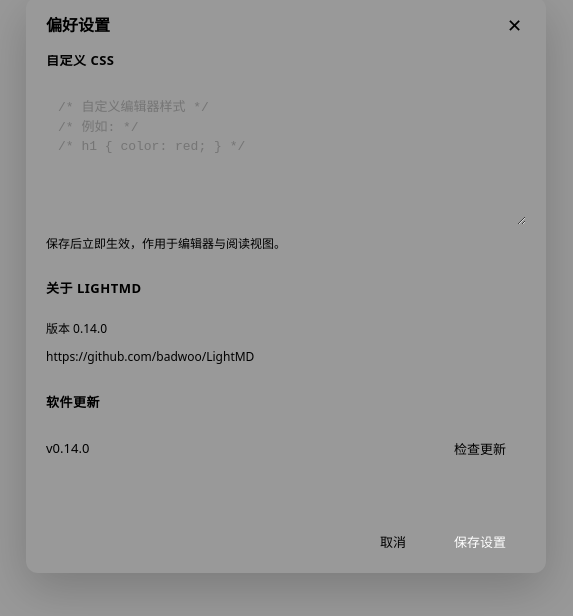
Test: v0.14.0 需求1：设置里「软件更新」区 › 点「检查更新」→ 已是最新版本 → 显示版本号文案
(page scrolled)
Step 1. Click the button with test id "update-check-btn" → coordinates (480, 448), box 434,430 -> 526,466
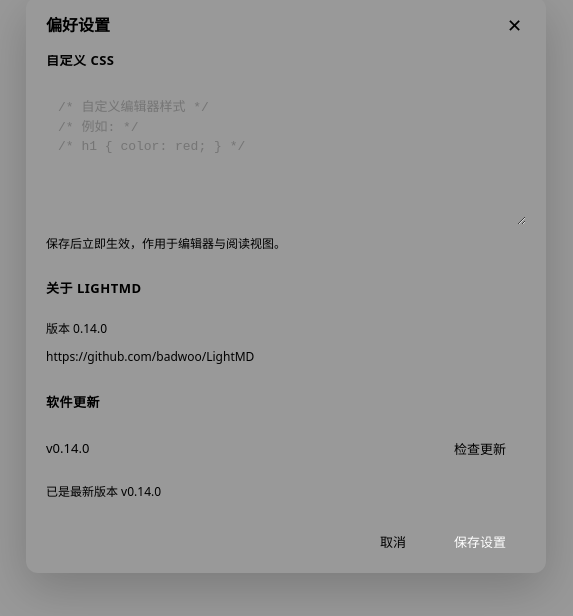
Expected: the text with test id "update-uptodate" shows "0.14.0", 46,482 -> 161,500
